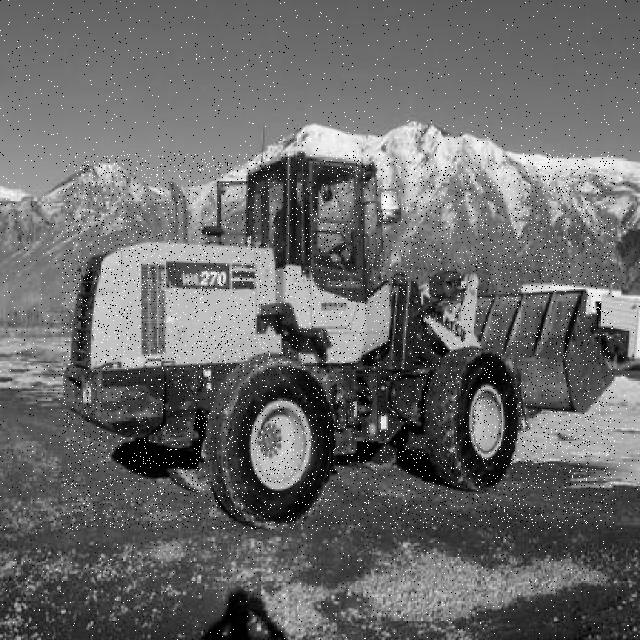Construction Equipment: (62, 154, 615, 529)
